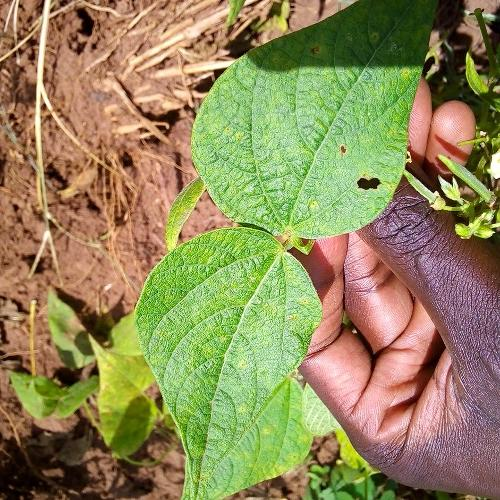mozaik: (192, 1, 436, 237)
